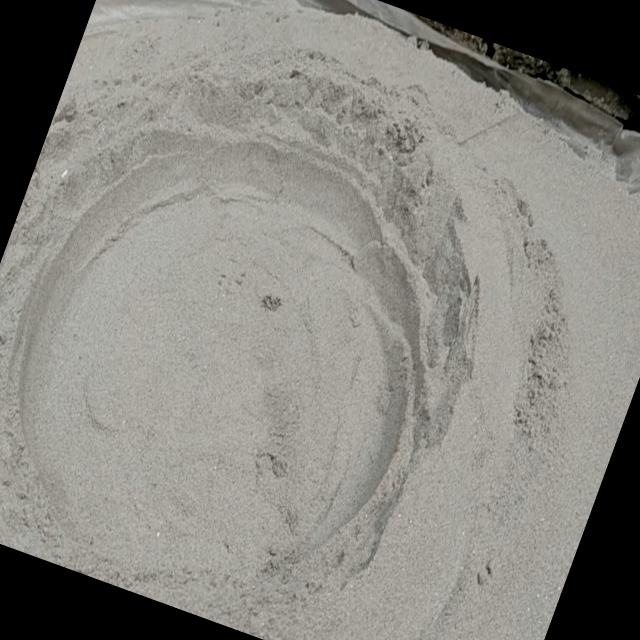C40: (14, 139, 461, 588)
